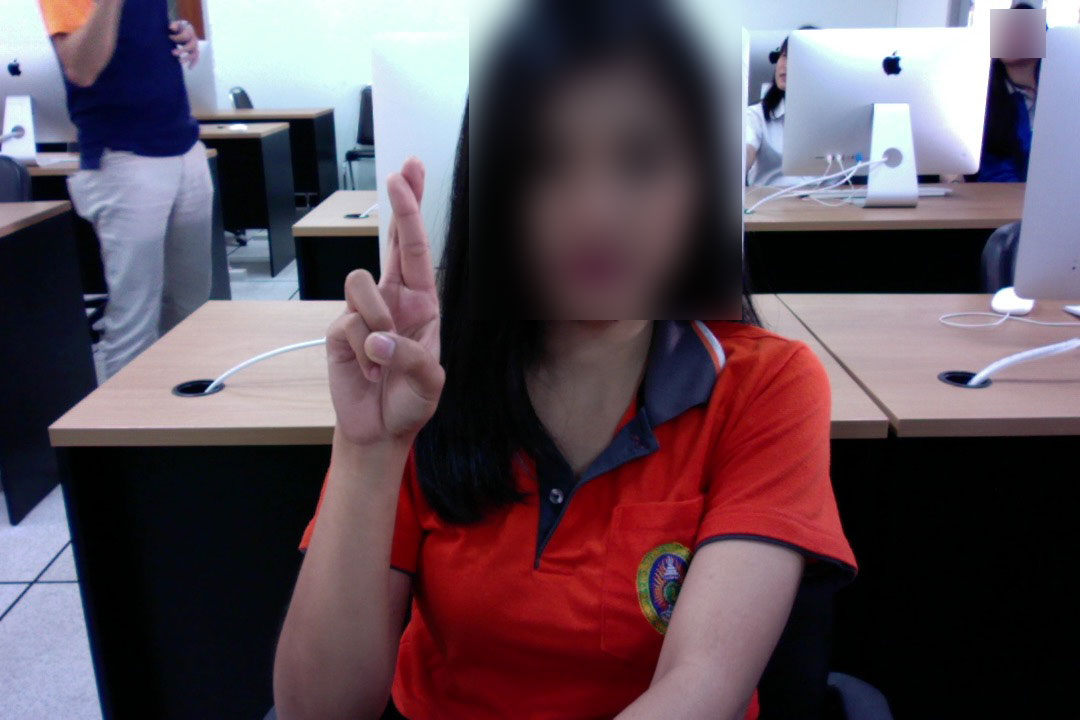rao: (317, 156, 464, 442)
